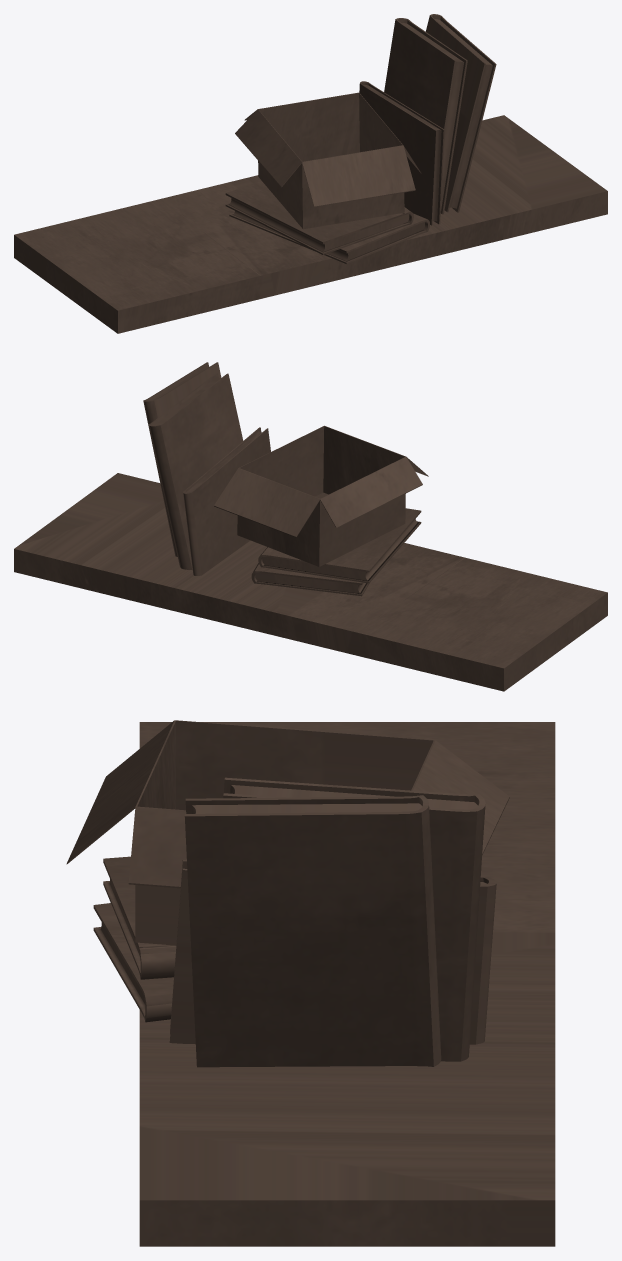
File: raft2.fbx
3 views of the same model, one above another, from view 1: azimuth 30°, elevation 25°; view 2: azimuth 150°, elevation 25°; view 3: azimuth 270°, elevation 25° (orthographic). The views are drawn at different scales.
Parts seen in each view (by area): view 1: Cube.005; view 2: Cube.005; view 3: Cube.005.
Boxes of the visible parts, <box> form: Cube.005: <box>14,14,607,333</box>; Cube.005: <box>14,362,607,691</box>; Cube.005: <box>66,720,555,1246</box>.
Size of the model in its own units: 581 by 197 by 251.
